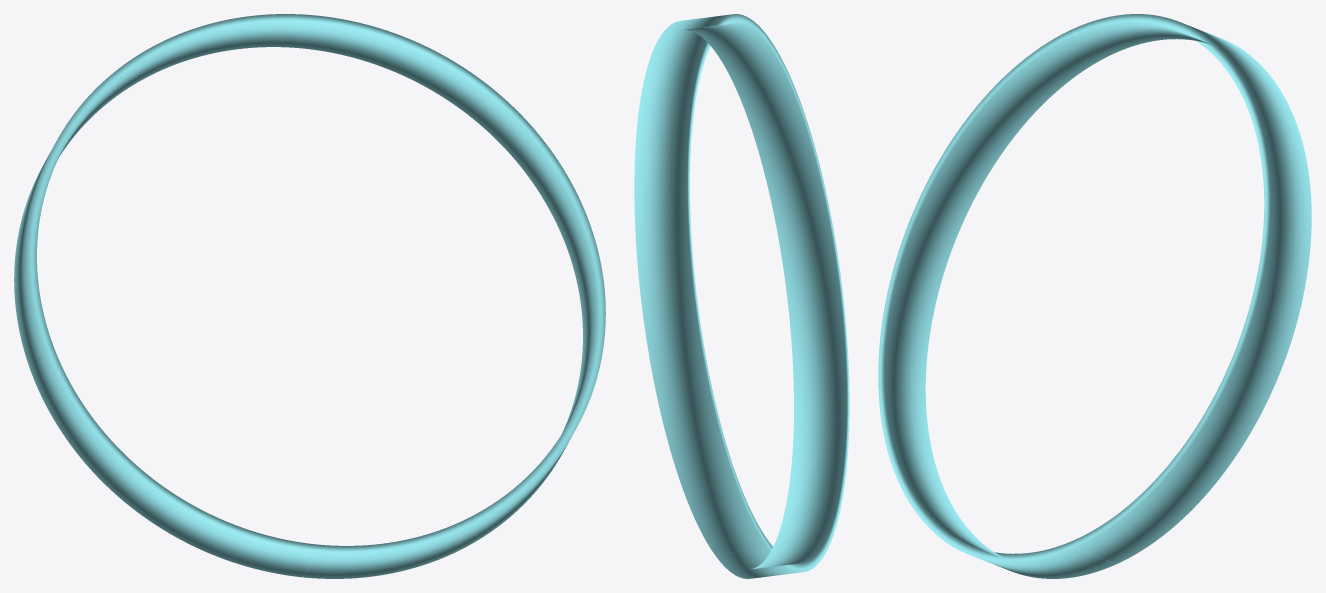
Rendered from coil_coil_7_tube.gltf.
The picture shows the model from 3 angles, left to right: view 1: azimuth 30°, elevation 25°; view 2: azimuth 150°, elevation 25°; view 3: azimuth 270°, elevation 25°; orthographic projection. The views are drawn at different scales.
Visible parts, largest first — view 1: Renderer Node; view 2: Renderer Node; view 3: Renderer Node.
Boxes of the visible parts, x1,y1,x2,y2 form: Renderer Node: [14, 14, 605, 578]; Renderer Node: [634, 14, 849, 578]; Renderer Node: [878, 14, 1311, 578].
Size of the model in its own units: 0.4855 by 0.6102 by 0.4615.
